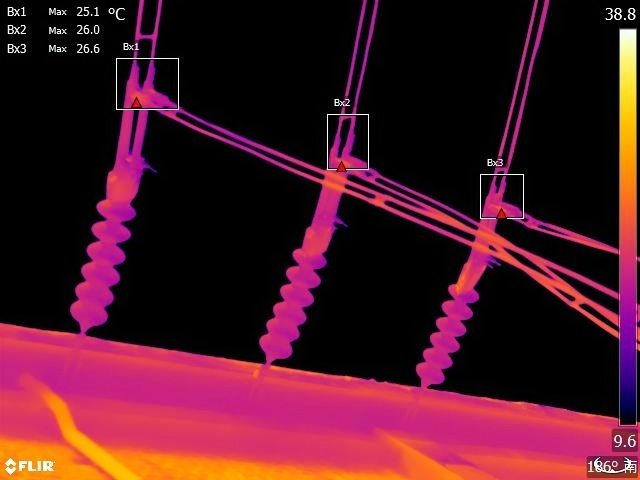clamp: (123, 75, 168, 110), (489, 192, 531, 228), (334, 146, 364, 174)
insulator: (62, 179, 159, 335), (251, 222, 348, 359), (410, 271, 491, 391)
